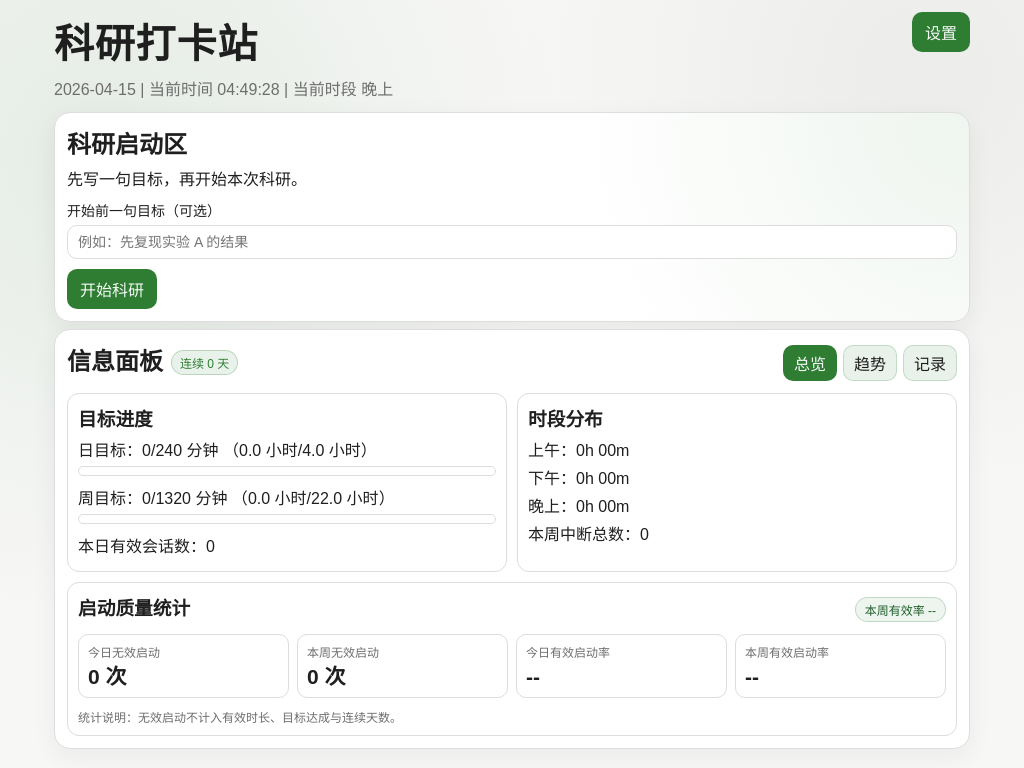
Test: App integration › keeps efficiency card collapsed by default when no rated sessions and shows empty hint after expand
The width and height of the screenshot is (1024, 768).
Expected: the heading "科研启动区" is shown, [67,131,187,158]
Step 1. Click the tab "趋势" → (870,362), box [843,344,897,380]
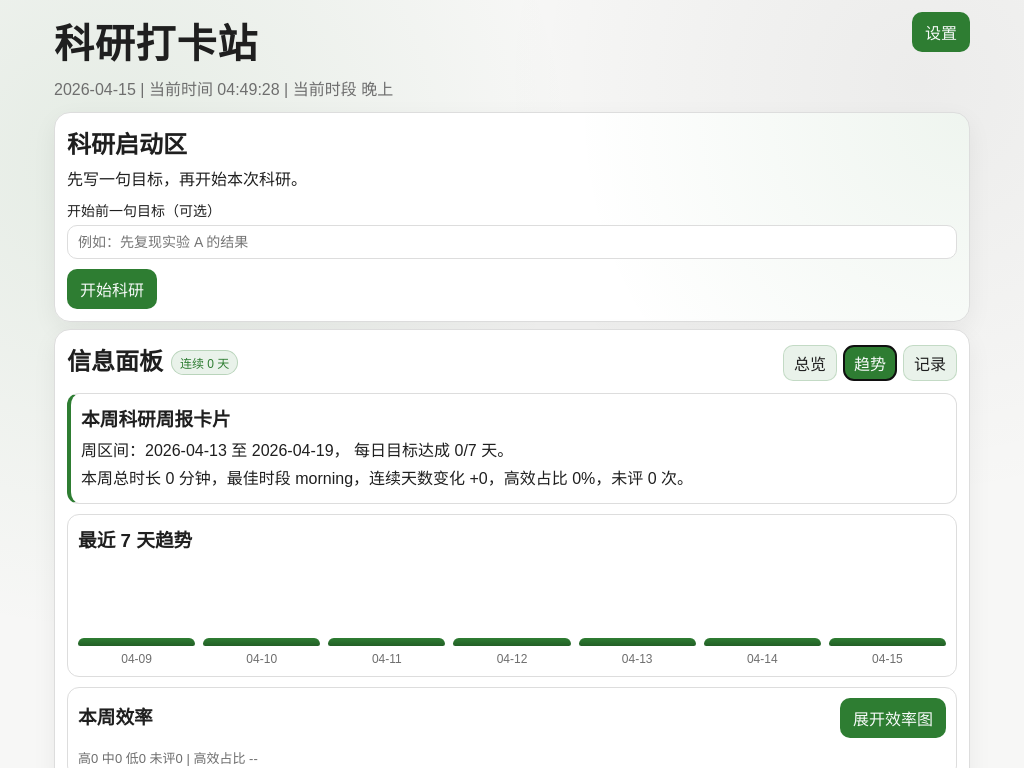
Expected: the text "本周还没有评分数据，结束会话时可选择效率评分。" is not shown
Expected: the heading "本周效率" is shown, [78,702,153,728]
Expected: the button "展开效率图" is shown
Step 2. Click the button "展开效率图" → (893,718), box [840,698,946,738]
(page scrolled)
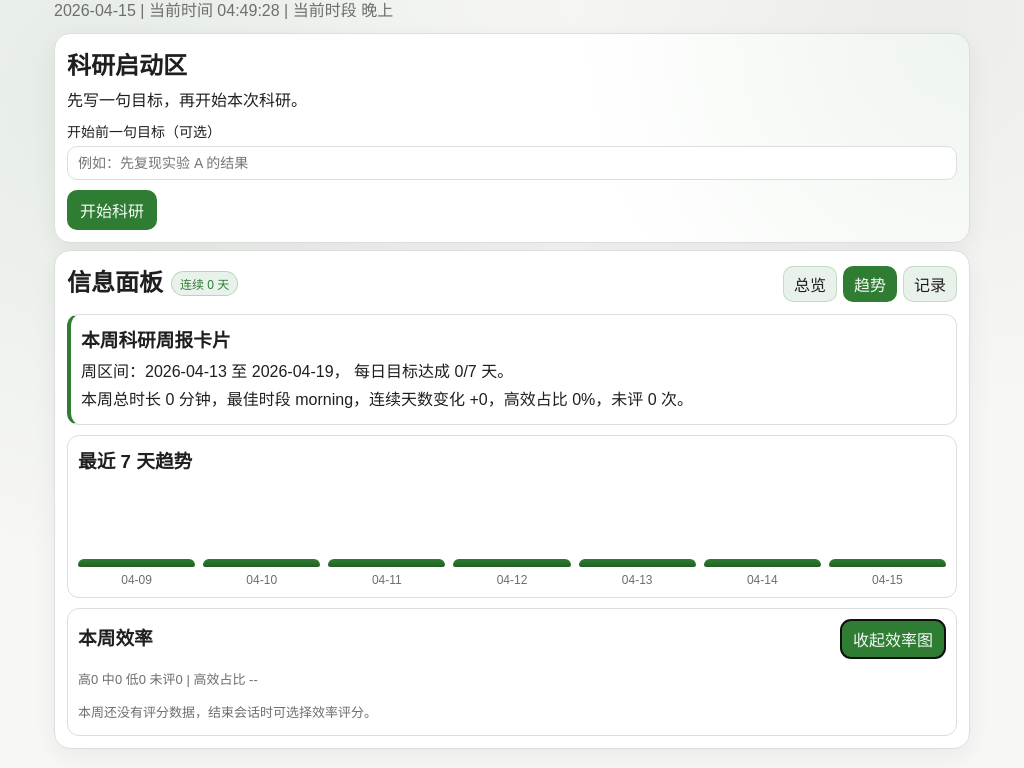
Expected: the text "本周还没有评分数据，结束会话时可选择效率评分。" is shown, [78,705,377,720]
